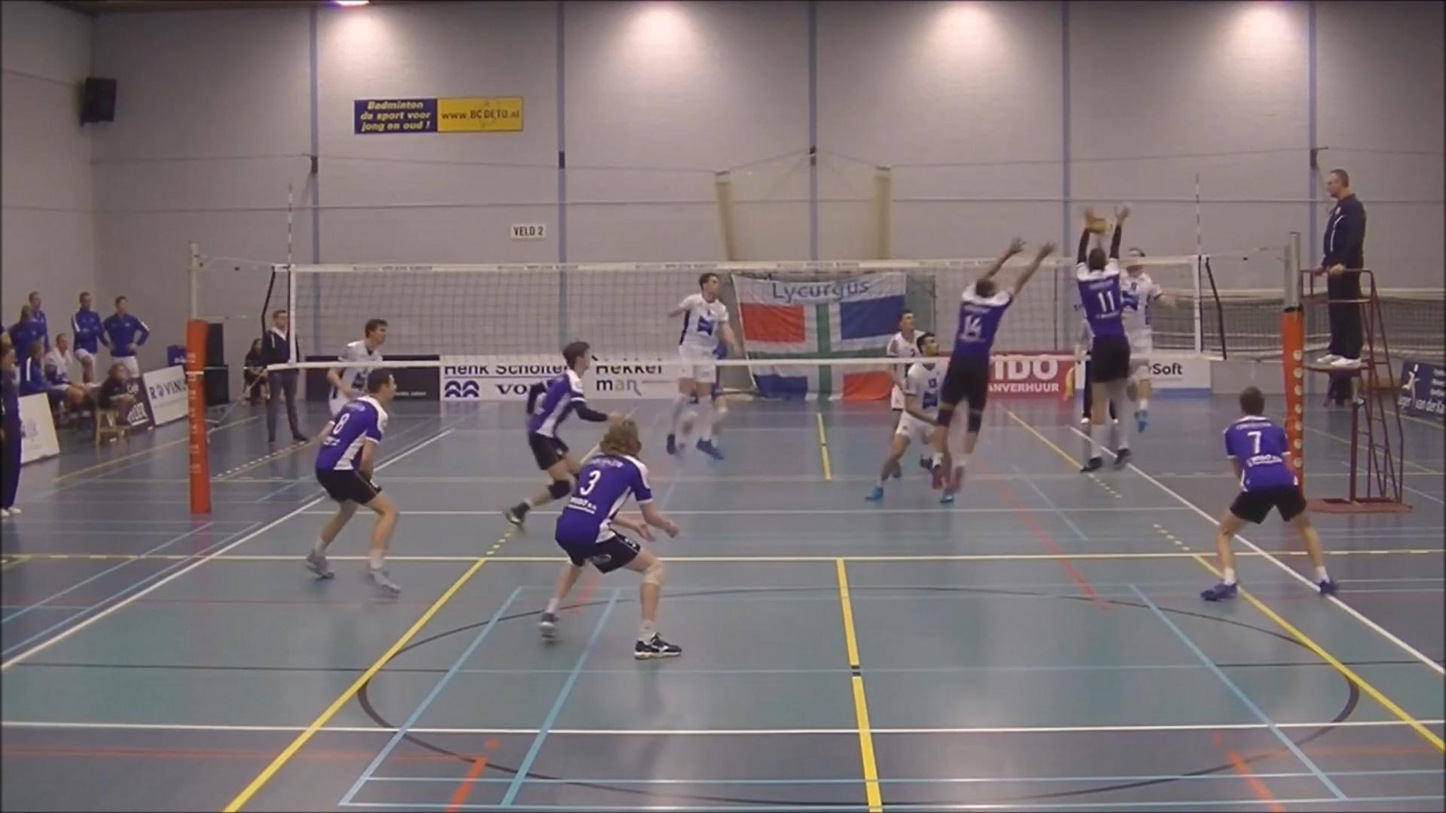Attack: (1083, 236, 1156, 450)
Block: (921, 232, 1060, 493), (1039, 227, 1149, 484)
Player: (539, 419, 681, 659), (1202, 386, 1337, 600), (504, 341, 622, 528), (306, 369, 400, 594), (667, 273, 740, 454), (866, 332, 942, 501), (326, 318, 387, 419), (886, 310, 919, 432), (700, 376, 727, 443)
ball: (1084, 210, 1111, 235)
